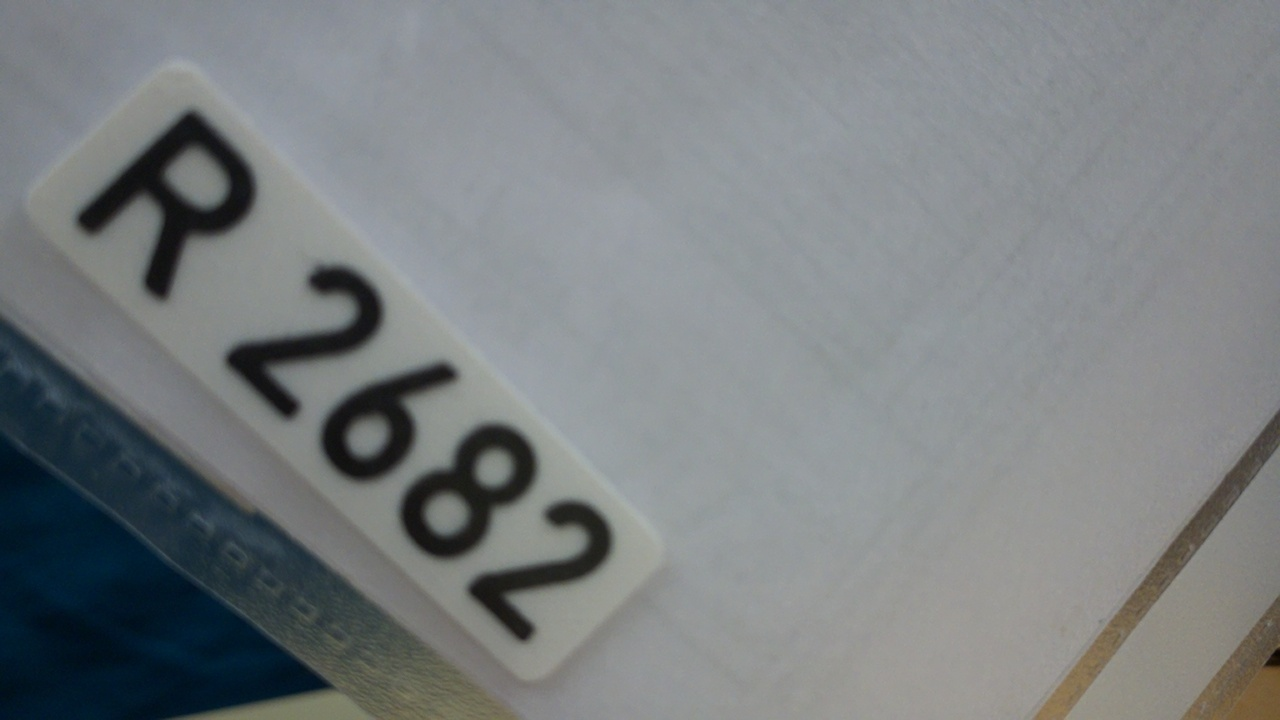license_plate: (19, 55, 675, 688)
